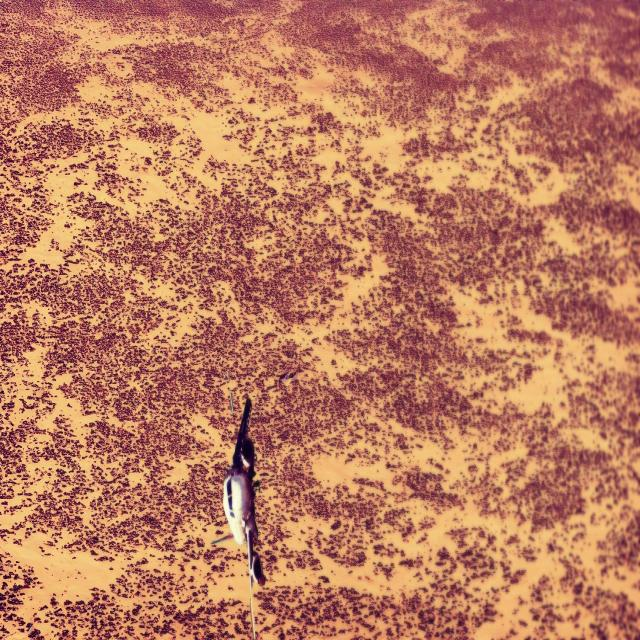airplane: (222, 373, 266, 639)
